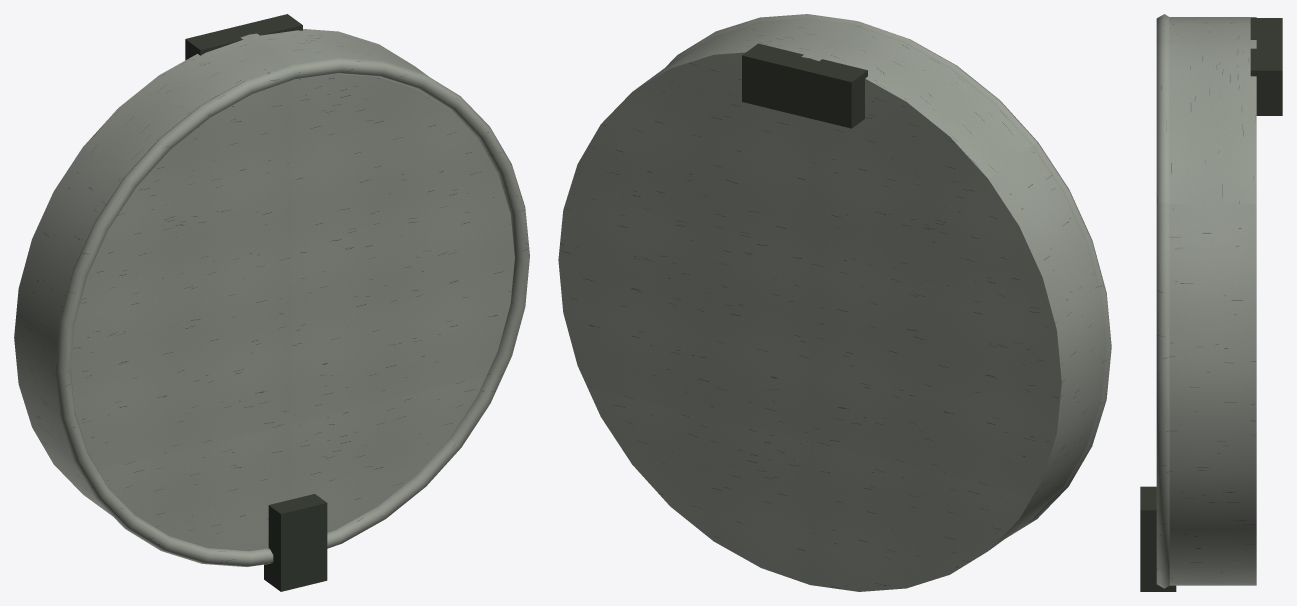
File: SM_FieldKit_LampHood.fbx
The picture shows the model from 3 angles, left to right: view 1: azimuth 30°, elevation 25°; view 2: azimuth 150°, elevation 25°; view 3: azimuth 270°, elevation 25°; orthographic projection. The views are drawn at different scales.
Visible parts, largest first — view 1: SM_FieldKit_LampHood; view 2: SM_FieldKit_LampHood; view 3: SM_FieldKit_LampHood.
Boxes of the visible parts, x1,y1,x2,y2 form: SM_FieldKit_LampHood: (14, 14, 529, 591); SM_FieldKit_LampHood: (558, 14, 1111, 591); SM_FieldKit_LampHood: (1140, 14, 1282, 591).
Bounding box in the file's own units: 0.287 × 0.071 × 0.297.
